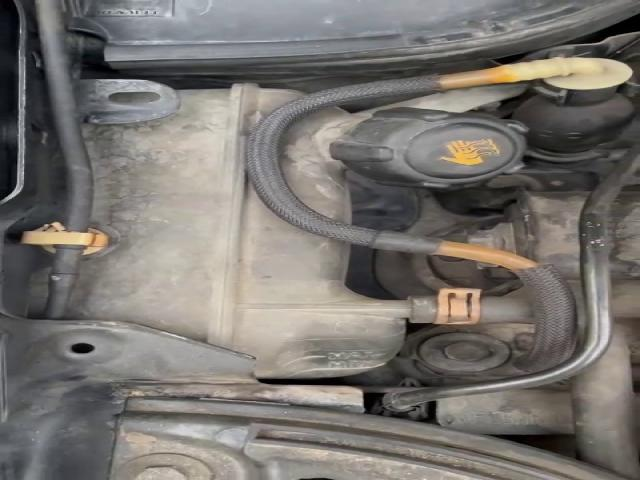antifreeze_tank: (73, 83, 413, 377), (283, 98, 526, 222)
